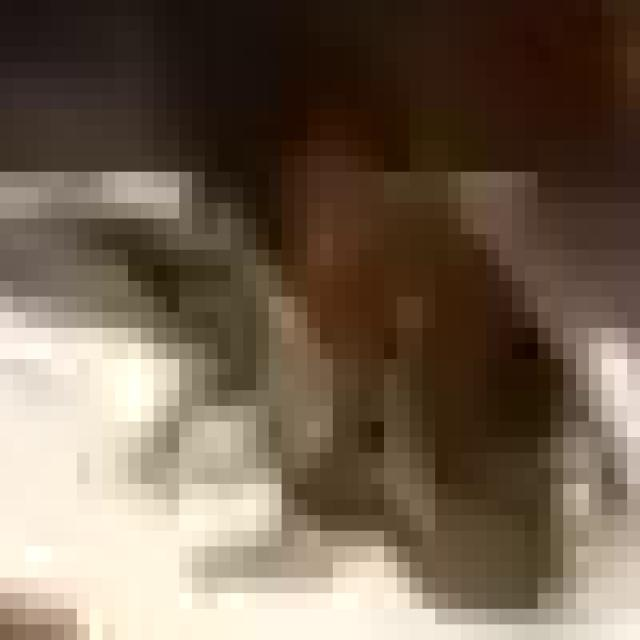honeybee: (123, 88, 604, 573)
